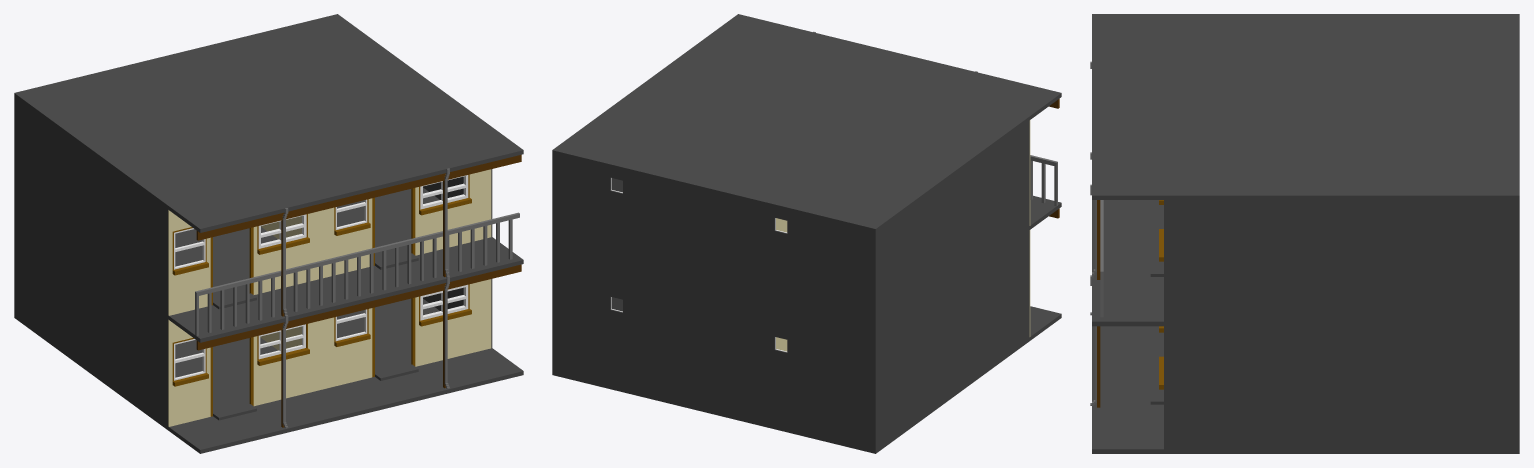
Rendered from motel-4.obj.
The picture shows the model from 3 angles, left to right: view 1: azimuth 30°, elevation 25°; view 2: azimuth 150°, elevation 25°; view 3: azimuth 270°, elevation 25°; orthographic projection. The views are drawn at different scales.
Bounding box in the file's own units: 25.6 × 17 × 25.6.
1 material, 1 textured.
